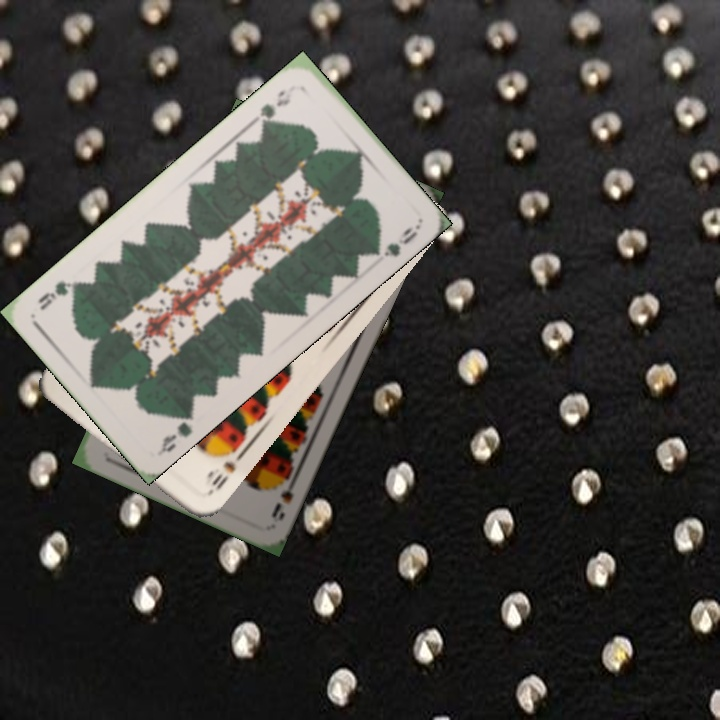G9: (154, 406, 197, 458), (250, 85, 295, 130)
S10: (208, 448, 247, 493)
S9: (267, 469, 301, 524)
